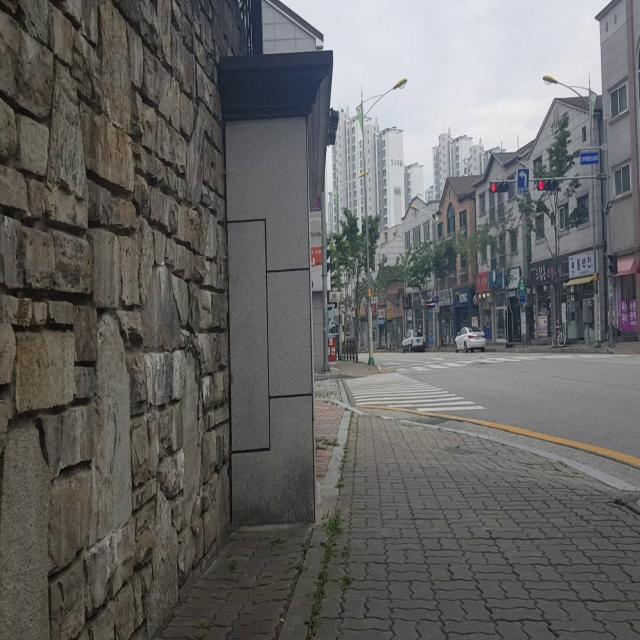횡단보도: (344, 372, 487, 411), (394, 351, 584, 370)
